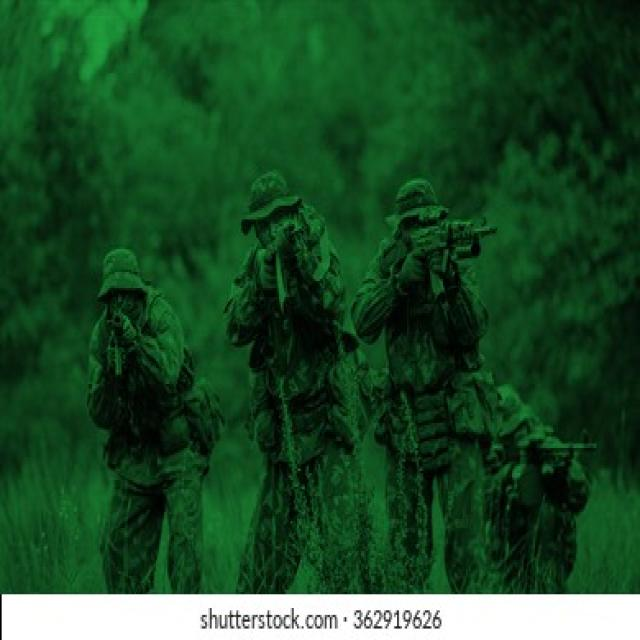Forest: (0, 0, 640, 595)
Militant: (219, 154, 381, 588), (358, 166, 492, 586), (85, 236, 222, 595), (464, 349, 593, 593)
